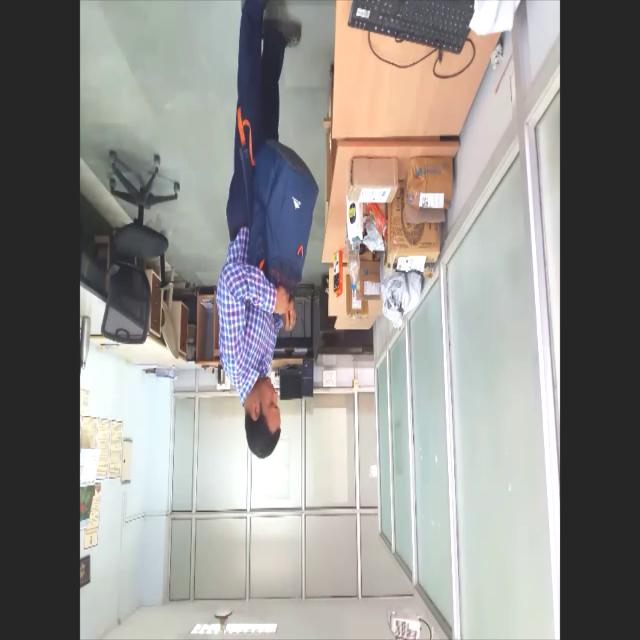shoplifting: (212, 0, 317, 467)
